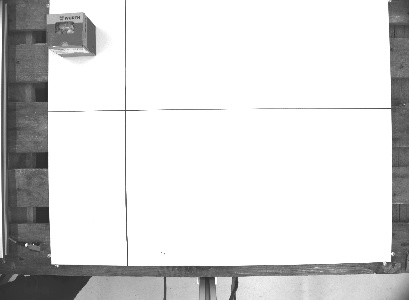b7: (42, 10, 99, 60)
